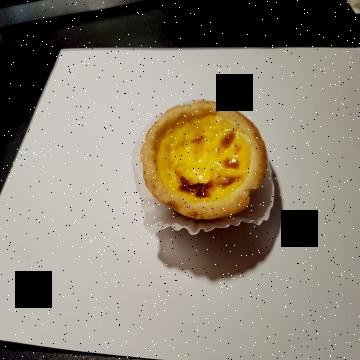EggTart: (140, 99, 267, 222)
